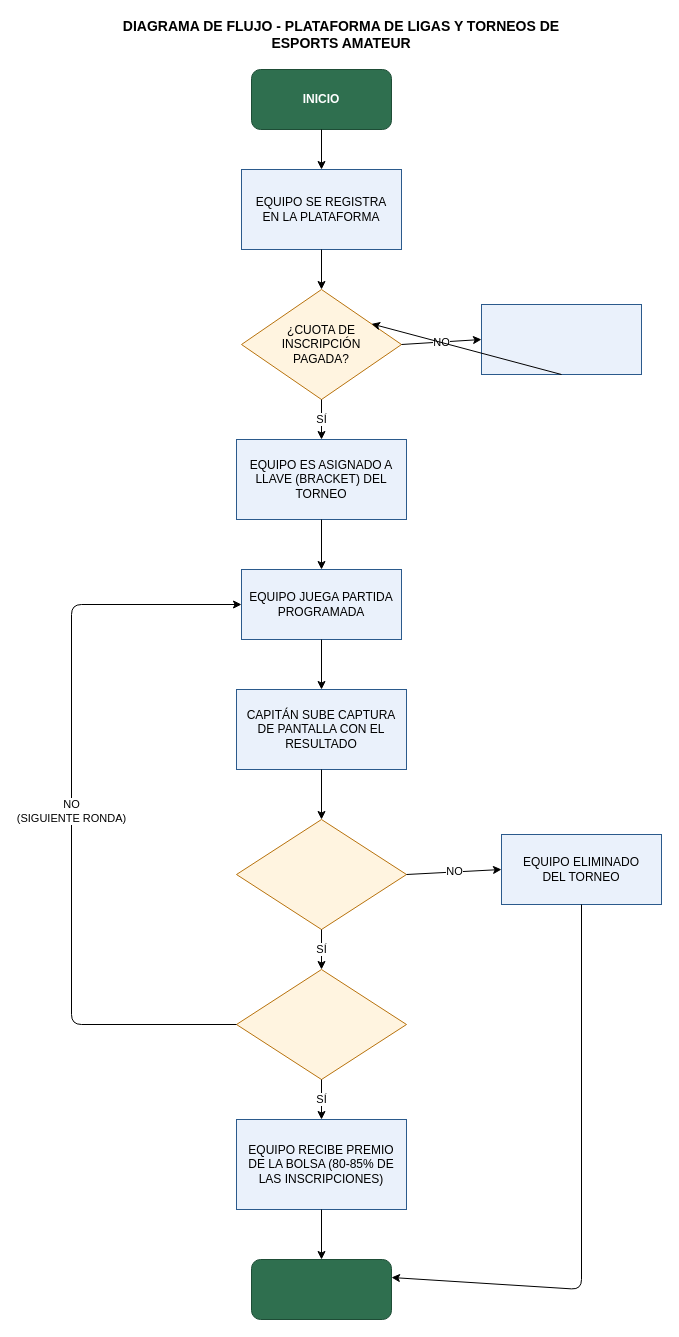
Image size: 679x1337. Some labels were removed from this diagram. Each missing label, with the centre of its shape:
"FIN" goes at point (321, 1289).
"SISTEMA SOLICITA PAGO DE INSCRIPCIÓN" goes at point (561, 339).
"¿EQUIPO GANADOR DE LA RONDA?" goes at point (321, 874).
"¿ES LA RONDA FINAL?" goes at point (321, 1024).
